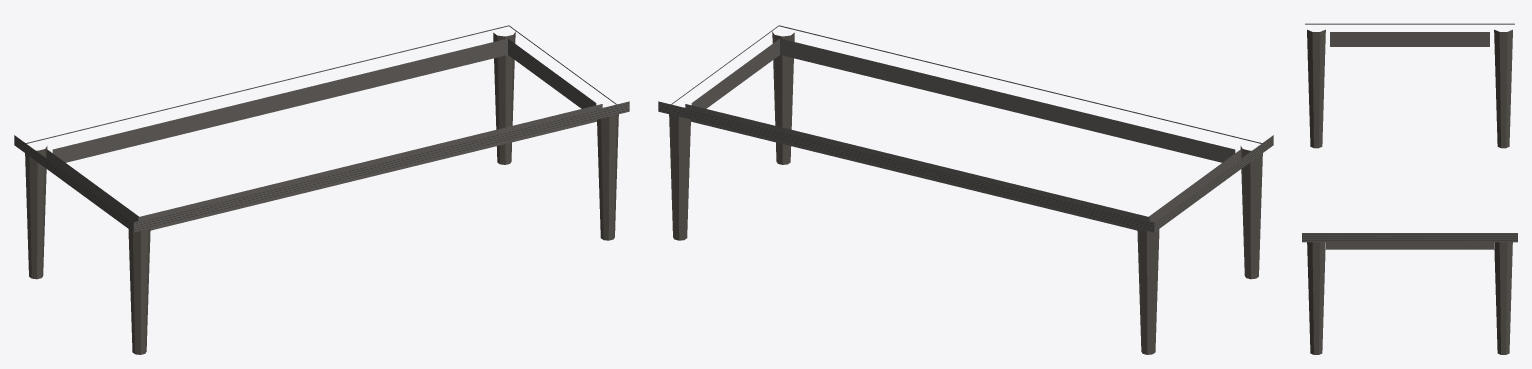
File: kd_stage_135ded_4_39_exterior.glb
3 renders of one model, left to right at view 1: azimuth 30°, elevation 25°; view 2: azimuth 150°, elevation 25°; view 3: azimuth 270°, elevation 25°, orthographic. The views are drawn at different scales.
Visible parts, largest first — view 1: kd_stage_135ded_4_39_exterior; view 2: kd_stage_135ded_4_39_exterior; view 3: kd_stage_135ded_4_39_exterior.
Part boxes in pixels (<box>): kd_stage_135ded_4_39_exterior: <box>14,25,629,354</box>; kd_stage_135ded_4_39_exterior: <box>658,25,1273,354</box>; kd_stage_135ded_4_39_exterior: <box>1302,23,1517,354</box>.
Size of the model in its own units: 2.52 by 0.6733 by 1.05.
Materials: 1 (1 with a texture image).
